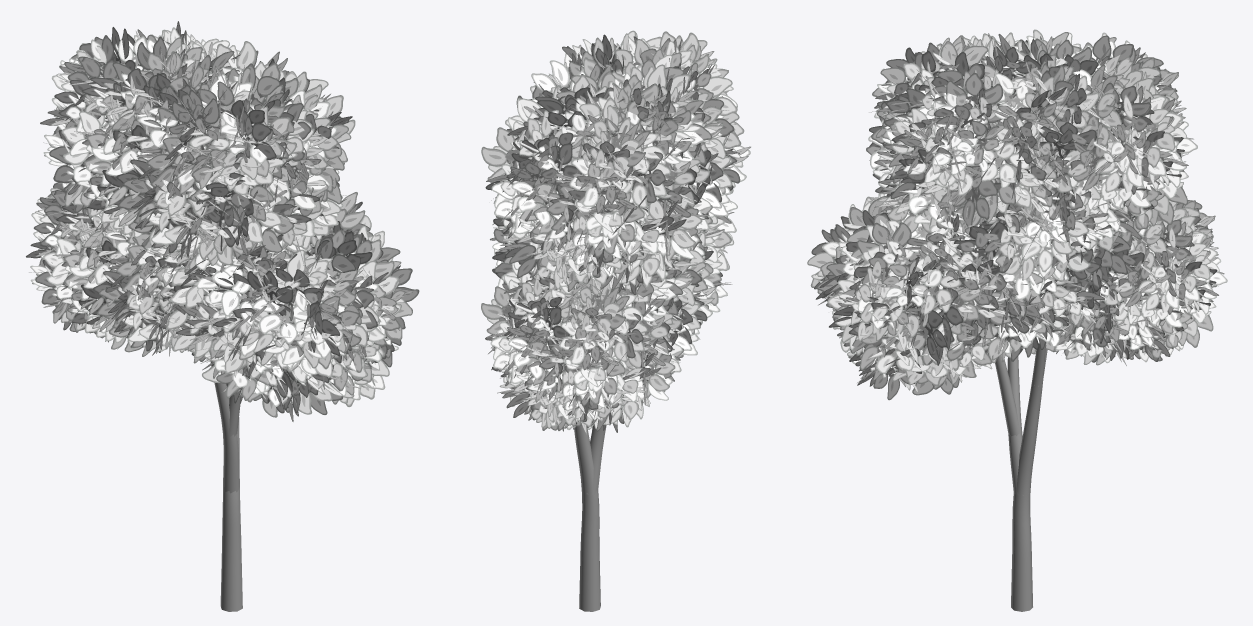
File: SM_Tree_Remade_02.fbx
3 renders of one model, left to right at view 1: azimuth 30°, elevation 25°; view 2: azimuth 150°, elevation 25°; view 3: azimuth 270°, elevation 25°, orthographic. The views are drawn at different scales.
Visible parts, largest first — view 1: leaf_grayscale.002, leaf_grayscale.003, leaf_grayscale.001, tree; view 2: leaf_grayscale.002, leaf_grayscale.001, tree, leaf_grayscale.003; view 3: leaf_grayscale.002, leaf_grayscale.003, leaf_grayscale.001, tree.
Boxes of the visible parts, x1,y1,x2,y2 form: leaf_grayscale.002: (40,21,355,265); leaf_grayscale.003: (111,138,419,421); leaf_grayscale.001: (26,182,293,356); tree: (210,361,242,611); leaf_grayscale.002: (481,30,750,294); leaf_grayscale.001: (481,208,716,434); tree: (569,336,606,611); leaf_grayscale.003: (490,144,737,335); leaf_grayscale.002: (866,29,1197,253); leaf_grayscale.003: (807,134,1130,400); leaf_grayscale.001: (942,200,1227,365); tree: (960,183,1068,611).
Bounding box in the file's own units: 274 × 543 × 392.
